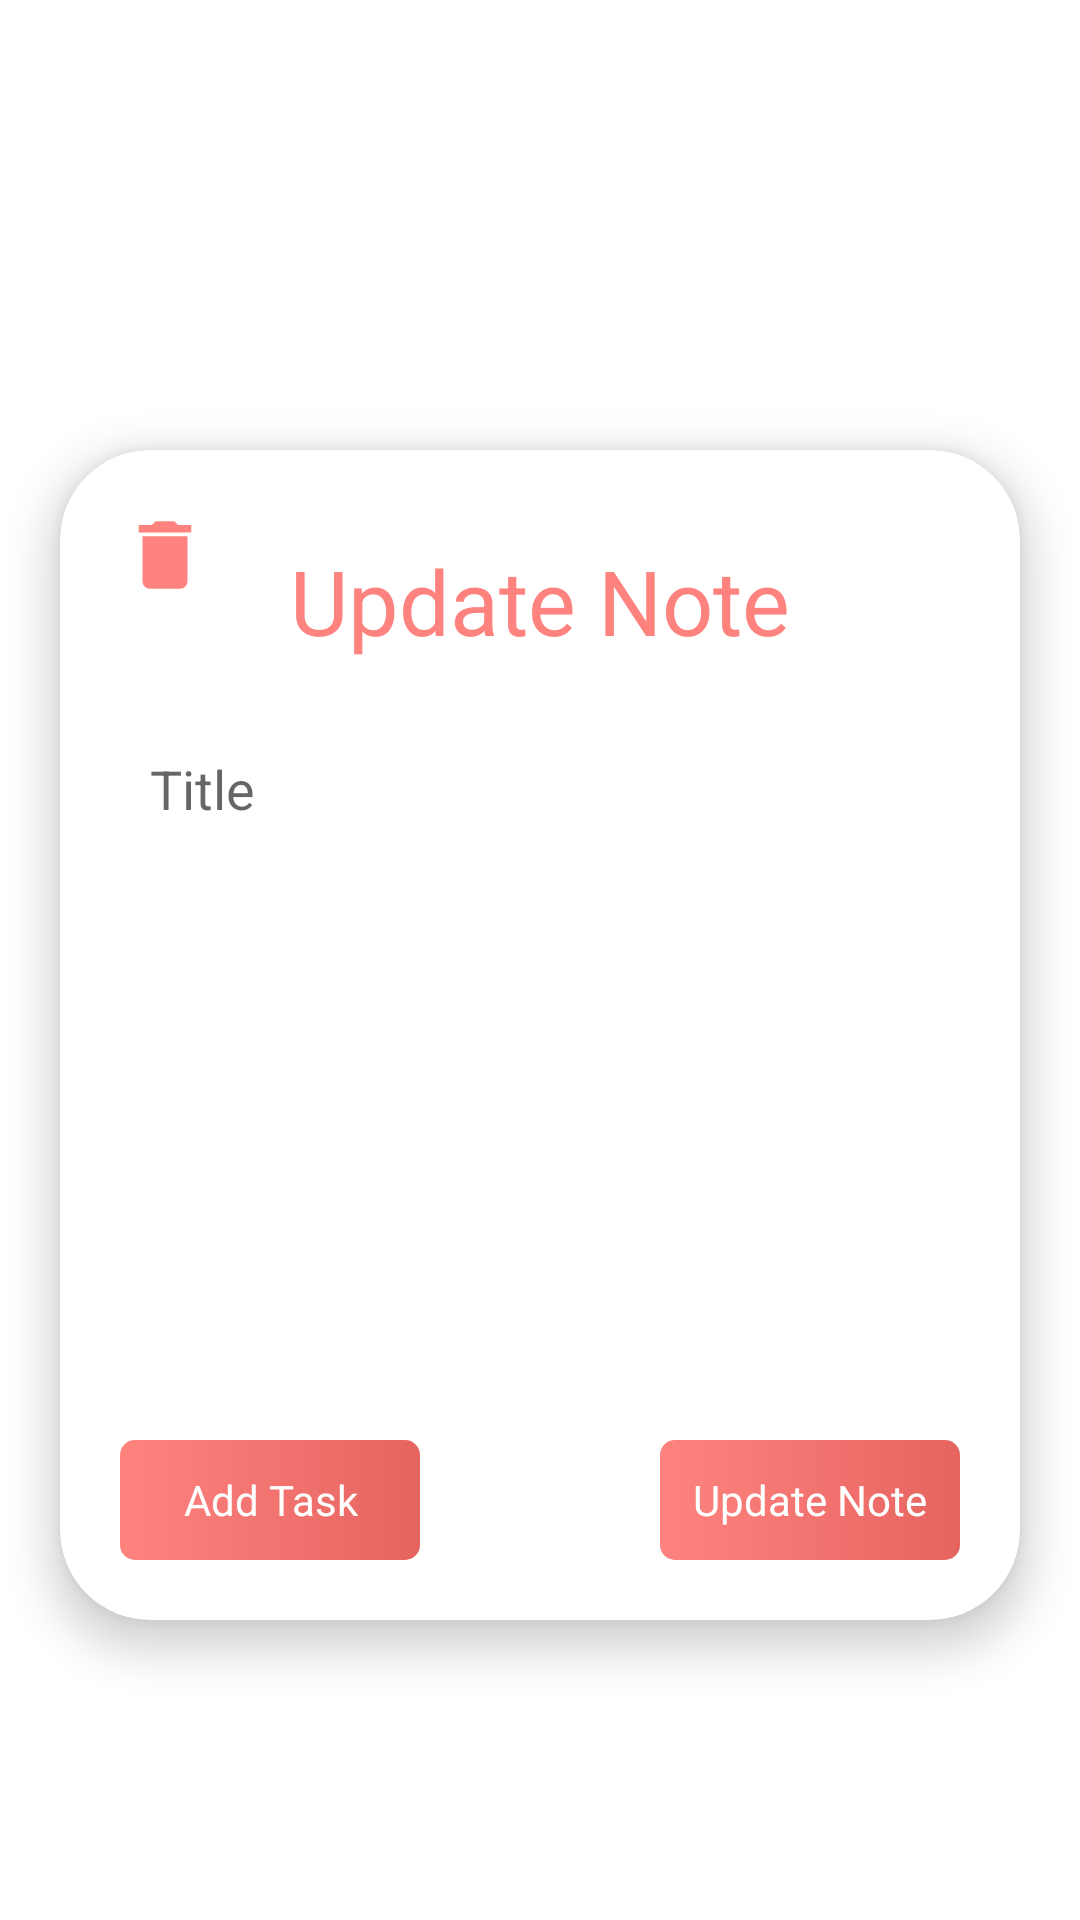

Screen size 1080px x 1920px. Icon name, then its center in pixels as (x,y):
delete note: (165,555)
